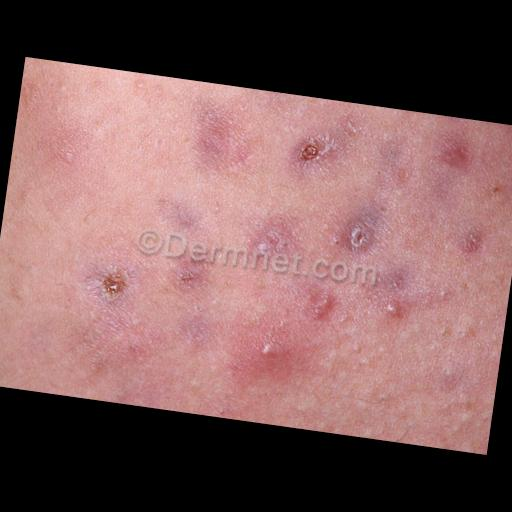Skin_Lesion: (184, 96, 264, 187), (420, 140, 478, 216), (228, 322, 298, 380), (84, 260, 145, 312), (336, 203, 384, 261), (283, 127, 339, 176), (300, 272, 344, 329), (378, 272, 416, 322), (456, 212, 491, 266), (170, 264, 210, 296), (166, 201, 202, 232)
